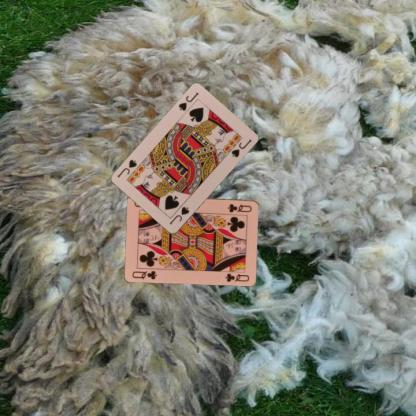Js: (176, 90, 200, 113), (166, 204, 191, 226)
Qc: (225, 201, 253, 214), (130, 268, 158, 280)
